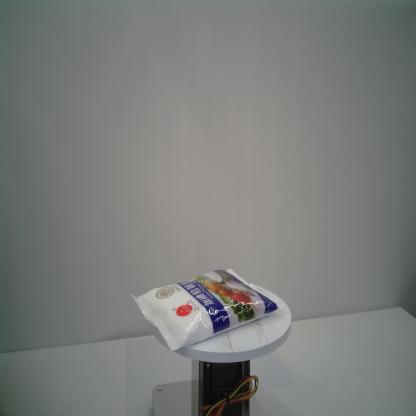Seasoner: (131, 268, 280, 351)
